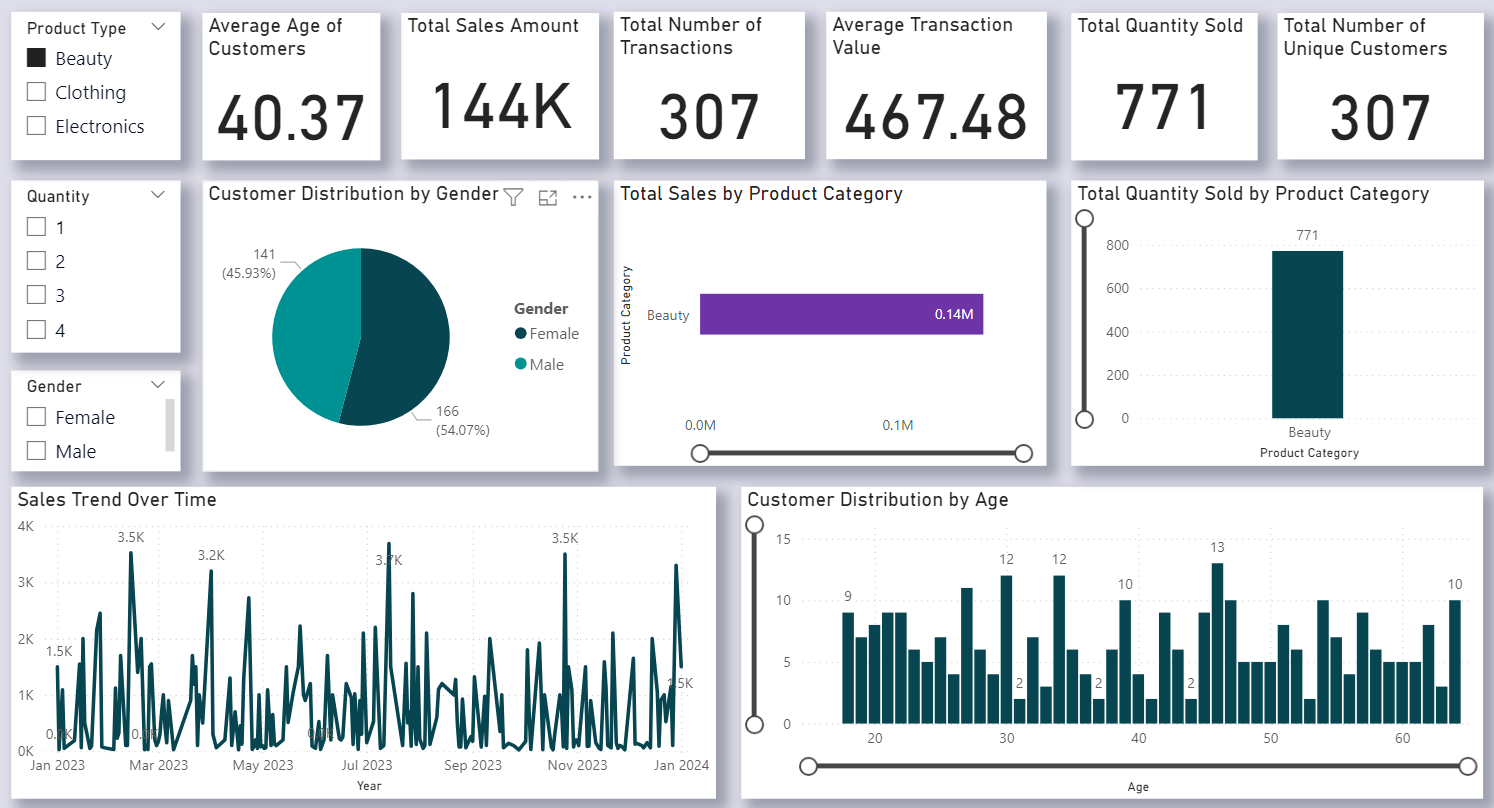

The page's visual inventory and layout, read from the dashboard file:
{"tool":"powerbi","page":{"name":"Page 1","canvas":[1280,720],"ordinal":0},"visuals":[{"type":"barChart","title":"Total Sales by Product Category","fields":{"Y":["Sum(retail_sales_dataset.Total Amount)"],"Category":["retail_sales_dataset.Product Category"]},"box":[528.8,178.7,364,240],"z":0},{"type":"pieChart","title":"Customer Distribution by Gender","fields":{"Category":["retail_sales_dataset.Gender"],"Y":["CountNonNull(retail_sales_dataset.Customer ID)"]},"box":[183.3,178.7,333,244.6],"z":1000},{"type":"columnChart","title":"Customer Distribution by Age","fields":{"Category":["retail_sales_dataset.Age"],"Y":["CountNonNull(retail_sales_dataset.Customer ID)"]},"box":[636.3,436.5,624.4,262.4],"z":2000},{"type":"clusteredColumnChart","title":"Total Quantity Sold by Product Category","fields":{"Category":["retail_sales_dataset.Product Category","retail_sales_dataset.Total Amount"],"Y":["Sum(retail_sales_dataset.Quantity)"]},"box":[913.2,178.7,347.5,240],"z":3000},{"type":"card","title":"Total Sales Amount","fields":{"Values":["Sum(retail_sales_dataset.Total Amount)"]},"box":[350.1,37.6,166.2,123.3],"z":4000},{"type":"card","title":"Total Number of Transactions","fields":{"Values":["CountNonNull(retail_sales_dataset.Transaction ID)"]},"box":[528.8,36.9,160.9,124],"z":5000},{"type":"card","title":"Average Transaction Value","fields":{"Values":["Avg(retail_sales_dataset.Total Amount)"]},"box":[707.5,36.9,185.3,124],"z":6000},{"type":"card","title":"Total Quantity Sold","fields":{"Values":["Sum(retail_sales_dataset.Quantity)"]},"box":[913.2,37.6,156.9,124],"z":7000},{"type":"card","title":"Total Number of Unique Customers","fields":{"Values":["Count(retail_sales_dataset.Customer ID)"]},"box":[1087.3,38.2,173.4,123.3],"z":8000},{"type":"slicer","fields":{"Values":["retail_sales_dataset.Gender"]},"box":[22.4,338.2,142.4,85.1],"z":9000},{"type":"slicer","fields":{"Values":["retail_sales_dataset.Quantity"]},"box":[22.4,178.7,142.4,145.1],"z":10000},{"type":"slicer","fields":{"Values":["retail_sales_dataset.Product Category"]},"box":[22.4,37.6,142.4,124],"z":11000},{"type":"lineChart","title":"Sales Trend Over Time","fields":{"Y":["Sum(retail_sales_dataset.Total Amount)"],"Category":["retail_sales_dataset.Date"]},"box":[22.4,436.5,592.7,262.4],"z":12000},{"type":"card","title":"Average Age of Customers","fields":{"Values":["Avg(retail_sales_dataset.Age)"]},"box":[183.3,37.6,149.7,124],"z":13000}]}

Visuals, with their boxes on the page's 1280x720 design canvas (x1, y1, x2, y2). These are canvas units, not pixel positions in the 1494x808 screenshot, which may show the page scaled, cropped or inside an application window:
"Total Sales by Product Category" barChart: (x1=529, y1=179, x2=893, y2=419)
"Customer Distribution by Gender" pieChart: (x1=183, y1=179, x2=516, y2=423)
"Customer Distribution by Age" columnChart: (x1=636, y1=436, x2=1261, y2=699)
"Total Quantity Sold by Product Category" clusteredColumnChart: (x1=913, y1=179, x2=1261, y2=419)
"Total Sales Amount" card: (x1=350, y1=38, x2=516, y2=161)
"Total Number of Transactions" card: (x1=529, y1=37, x2=690, y2=161)
"Average Transaction Value" card: (x1=708, y1=37, x2=893, y2=161)
"Total Quantity Sold" card: (x1=913, y1=38, x2=1070, y2=162)
"Total Number of Unique Customers" card: (x1=1087, y1=38, x2=1261, y2=162)
slicer - retail_sales_dataset.Gender: (x1=22, y1=338, x2=165, y2=423)
slicer - retail_sales_dataset.Quantity: (x1=22, y1=179, x2=165, y2=324)
slicer - retail_sales_dataset.Product Category: (x1=22, y1=38, x2=165, y2=162)
"Sales Trend Over Time" lineChart: (x1=22, y1=436, x2=615, y2=699)
"Average Age of Customers" card: (x1=183, y1=38, x2=333, y2=162)
